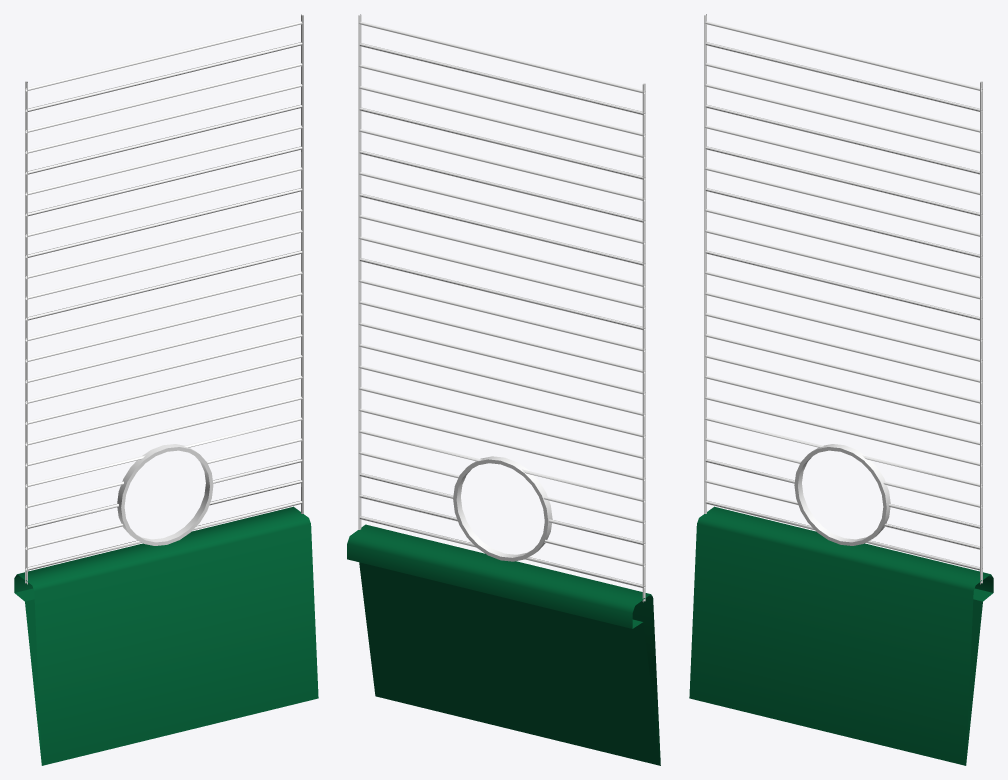
The model's file is Gabbia_muro_H_B.fbx.
3 renders of one model, left to right at view 1: azimuth 30°, elevation 25°; view 2: azimuth 150°, elevation 25°; view 3: azimuth 330°, elevation 25°, orthographic. The views are drawn at different scales.
Parts seen in each view (by area): view 1: mesh; view 2: mesh; view 3: mesh.
Part boxes in pixels (x1,y1,x2,y2): mesh: (14, 14, 318, 765); mesh: (347, 14, 660, 765); mesh: (689, 14, 993, 765).
Size of what is drawn, in the model's own units: 6001 by 13931 by 1030.
3 materials, 3 textured.
